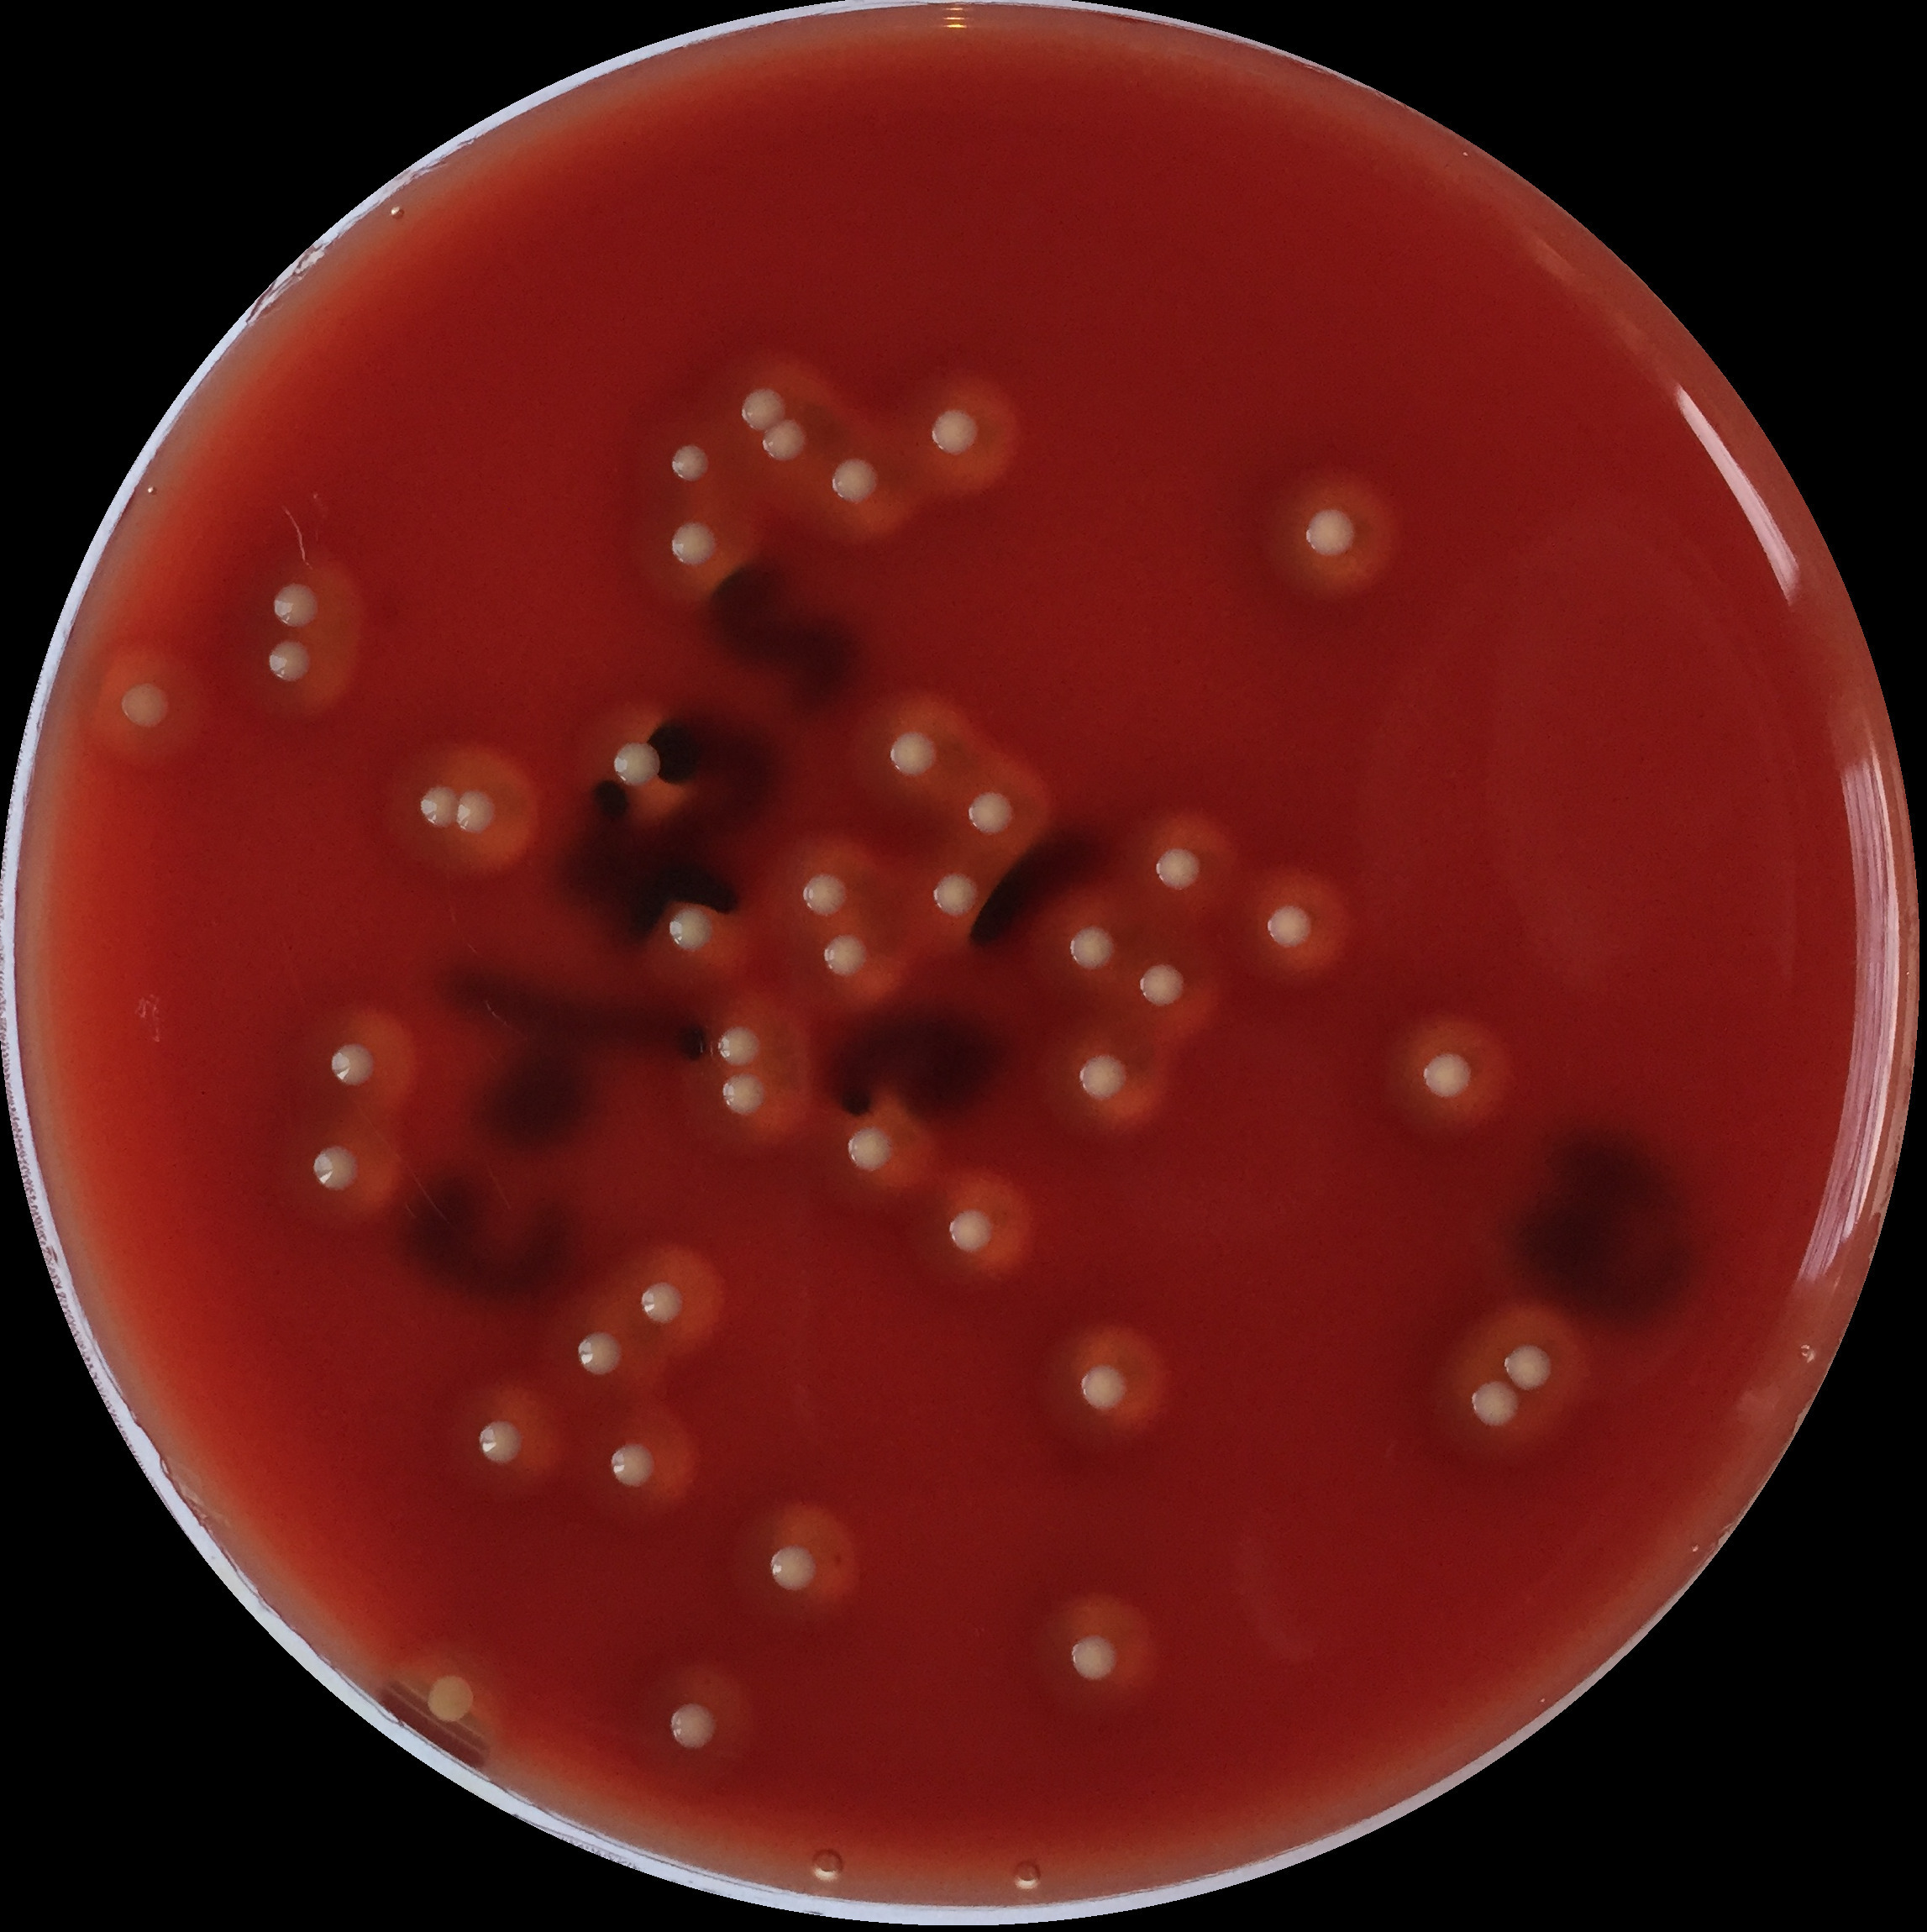sp21: (926, 402, 986, 468), (1299, 503, 1362, 563), (1075, 1050, 1135, 1110), (1064, 1627, 1121, 1687), (824, 453, 888, 506), (605, 738, 665, 792), (115, 676, 169, 736), (261, 635, 319, 690), (266, 579, 328, 630), (323, 1039, 379, 1094), (450, 783, 503, 842), (1500, 1343, 1558, 1396), (1075, 1359, 1129, 1413), (570, 1332, 630, 1382), (664, 439, 718, 492), (926, 868, 981, 921), (422, 1671, 476, 1724), (882, 727, 939, 778), (962, 787, 1018, 838), (665, 1703, 724, 1752), (1466, 1378, 1525, 1427), (1417, 1052, 1477, 1099), (761, 416, 814, 469), (1064, 925, 1117, 977), (1152, 843, 1207, 895), (662, 520, 720, 568), (842, 1126, 898, 1173), (607, 1440, 658, 1491), (736, 383, 789, 432), (944, 1205, 997, 1254), (637, 1279, 690, 1329), (1135, 960, 1189, 1007), (309, 1145, 364, 1193), (819, 932, 875, 977), (471, 1419, 526, 1464), (768, 1546, 822, 1591), (411, 782, 461, 831), (1262, 905, 1315, 951), (665, 907, 716, 949), (798, 873, 845, 917), (720, 1069, 764, 1117), (715, 1023, 761, 1066)
